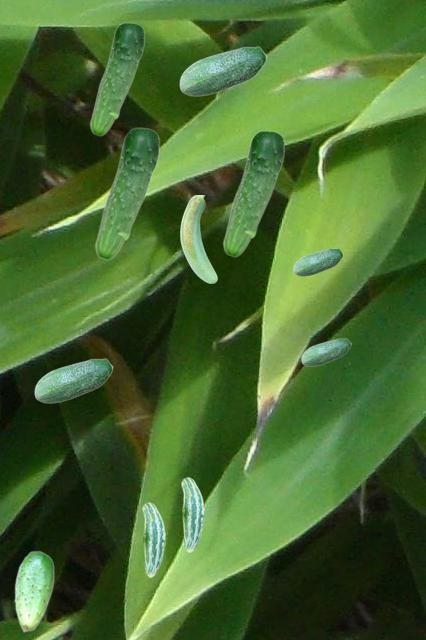cucumber: (94, 127, 159, 259), (222, 130, 284, 256), (89, 22, 144, 135), (179, 46, 266, 95), (34, 358, 112, 402), (14, 550, 53, 631), (180, 195, 216, 282), (181, 477, 203, 551), (142, 502, 164, 576), (301, 338, 350, 365), (293, 248, 342, 275)
